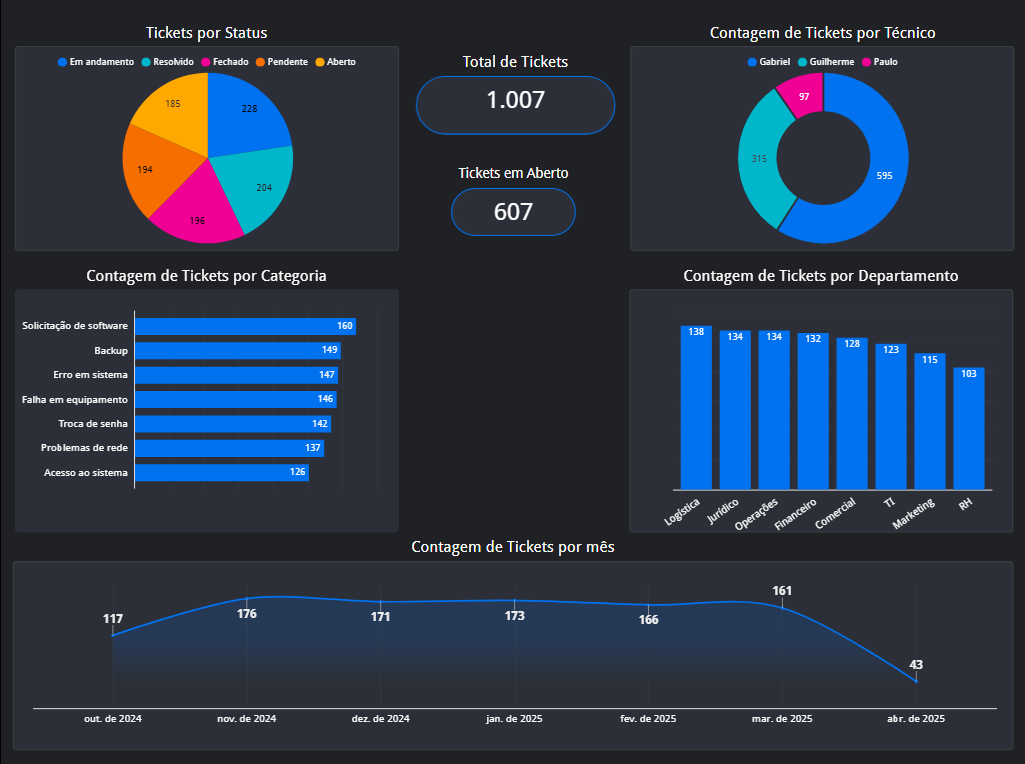

The page's visual inventory and layout, read from the dashboard file:
{"tool":"powerbi","page":{"name":"Dashboard","canvas":[1280,720],"ordinal":0},"visuals":[{"type":"pieChart","title":"Contagem de Tickets por Status","fields":{"Category":["chamados.Status"],"Y":["CountNonNull(chamados.IDChamado)"]},"box":[843.7,23.4,436.3,267],"z":0},{"type":"pieChart","title":"Contagem de Tickets por Técnico","fields":{"Category":["chamados.TecnicoResponsavel"],"Y":["CountNonNull(chamados.IDChamado)"]},"box":[26.2,23.4,494.1,250.5],"z":1},{"type":"clusteredBarChart","title":"Contagem de Tickets por Categoria","fields":{"Category":["chamados.Categoria"],"Y":["Count(chamados.IDChamado)"]},"box":[26.2,290.4,494.1,251.9],"z":2},{"type":"cardVisual","title":"Total de Tickets","fields":{"Data":["Count(chamados.IDChamado)"]},"box":[565.7,101.8,261.5,125.2],"z":3},{"type":"cardVisual","title":"Tickets em Aberto","fields":{"Data":["Count(chamados.IDChamado)"]},"box":[602.8,242.2,187.2,143.1],"z":4},{"type":"lineChart","title":"Contagem de Tickets por Mês","fields":{"Category":["chamados.DataAbertura.Variation.Hierarquia de datas.Ano","chamados.DataAbertura.Variation.Hierarquia de datas.Mês"],"Y":["CountNonNull(chamados.IDChamado)"]},"box":[26.2,542.3,1253.8,177.5],"z":5},{"type":"columnChart","title":"Contagem de Tickets por Departamento","fields":{"Category":["chamados.Departamento"],"Y":["CountNonNull(chamados.IDChamado)"]},"box":[843.7,290.4,418.4,251.9],"z":6}]}

Visuals, with their boxes on the page's 1280x720 design canvas (x1, y1, x2, y2). These are canvas units, not pixel positions in the 1025x764 screenshot, which may show the page scaled, cropped or inside an application window:
"Contagem de Tickets por Status" pieChart: pyautogui.locateOnScreen(844, 23, 1280, 290)
"Contagem de Tickets por Técnico" pieChart: pyautogui.locateOnScreen(26, 23, 520, 274)
"Contagem de Tickets por Categoria" clusteredBarChart: pyautogui.locateOnScreen(26, 290, 520, 542)
"Total de Tickets" cardVisual: pyautogui.locateOnScreen(566, 102, 827, 227)
"Tickets em Aberto" cardVisual: pyautogui.locateOnScreen(603, 242, 790, 385)
"Contagem de Tickets por Mês" lineChart: pyautogui.locateOnScreen(26, 542, 1280, 720)
"Contagem de Tickets por Departamento" columnChart: pyautogui.locateOnScreen(844, 290, 1262, 542)
